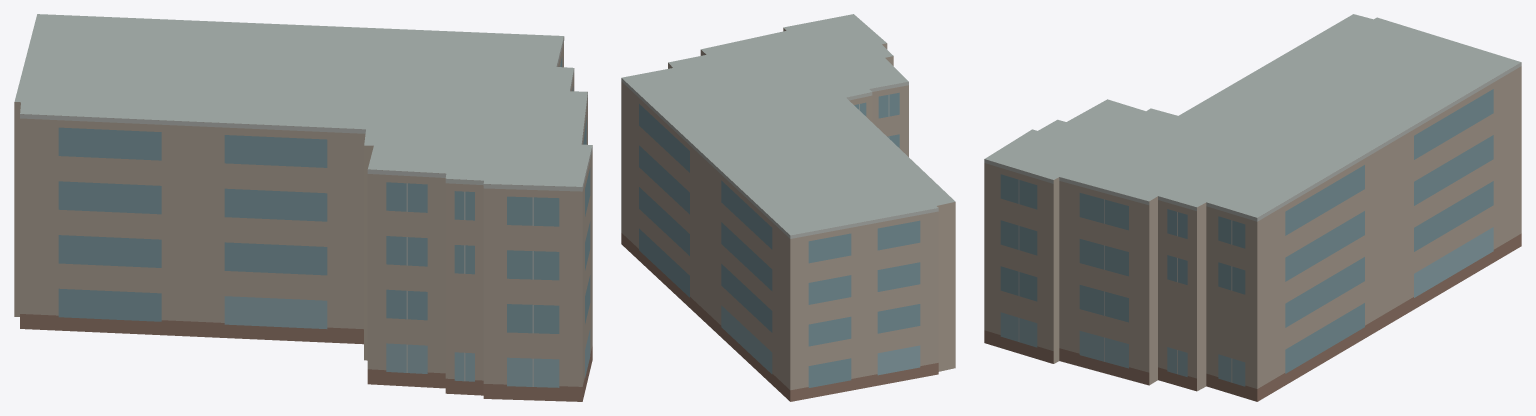
The model's file is survey-upis-32667575.glb.
3 renders of one model, left to right at view 1: azimuth 30°, elevation 25°; view 2: azimuth 150°, elevation 25°; view 3: azimuth 270°, elevation 25°, orthographic. The views are drawn at different scales.
Parts seen in each view (by area): view 1: survey-upis-32667575.tmp; view 2: survey-upis-32667575.tmp; view 3: survey-upis-32667575.tmp.
Part boxes in pixels (<box>): survey-upis-32667575.tmp: <box>14,14,592,401</box>; survey-upis-32667575.tmp: <box>621,14,955,401</box>; survey-upis-32667575.tmp: <box>984,14,1521,401</box>.
Bounding box in the file's own units: 27.33 × 11.5 × 30.42.
